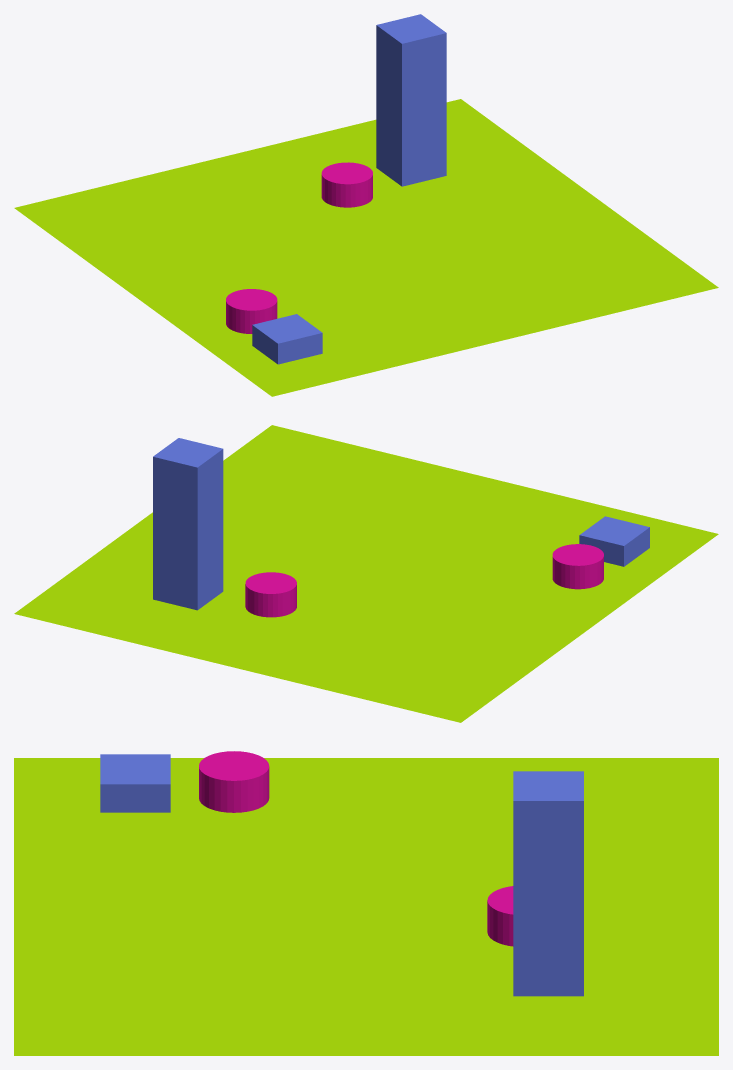
The model's file is test-gui.glb.
3 renders of one model, top to bottom at view 1: azimuth 30°, elevation 25°; view 2: azimuth 150°, elevation 25°; view 3: azimuth 270°, elevation 25°, orthographic. The views are drawn at different scales.
Parts seen in each view (by area): view 1: Plane, cube2, cube1, pos1, pos2; view 2: Plane, cube2, cube1, pos1, pos2; view 3: Plane, cube2, cube1, pos2, pos1.
Boxes of the visible parts, x1,y1,x2,y2 form: Plane: [14, 99, 718, 396]; cube2: [376, 14, 446, 186]; cube1: [252, 314, 322, 364]; pos1: [321, 162, 372, 207]; pos2: [226, 289, 277, 333]; Plane: [14, 425, 718, 722]; cube2: [153, 438, 223, 610]; cube1: [579, 516, 649, 566]; pos1: [245, 572, 296, 617]; pos2: [552, 544, 603, 589]; Plane: [14, 758, 718, 1055]; cube2: [513, 771, 583, 996]; cube1: [100, 754, 170, 812]; pos2: [199, 751, 269, 812]; pos1: [487, 886, 513, 946].
Size of the model in its own units: 20 by 7.11 by 20.
